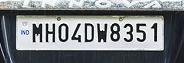0: (57, 21, 69, 42)
1: (149, 21, 159, 41)
3: (122, 21, 133, 42)
4: (70, 22, 82, 42)
5: (134, 21, 147, 42)
8: (109, 21, 121, 41)
D: (83, 21, 94, 42)
H: (44, 21, 55, 42)
M: (31, 21, 43, 42)
W: (95, 21, 107, 42)
